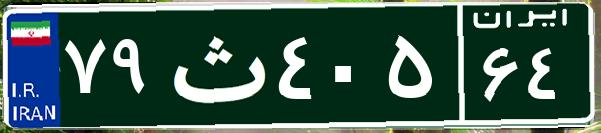0: (330, 28, 385, 110)
4: (273, 28, 330, 110), (525, 38, 570, 115)
5: (385, 28, 445, 110)
6: (475, 38, 525, 113)
7: (57, 26, 110, 107)
9: (110, 28, 158, 105)
ث: (158, 15, 273, 115)
